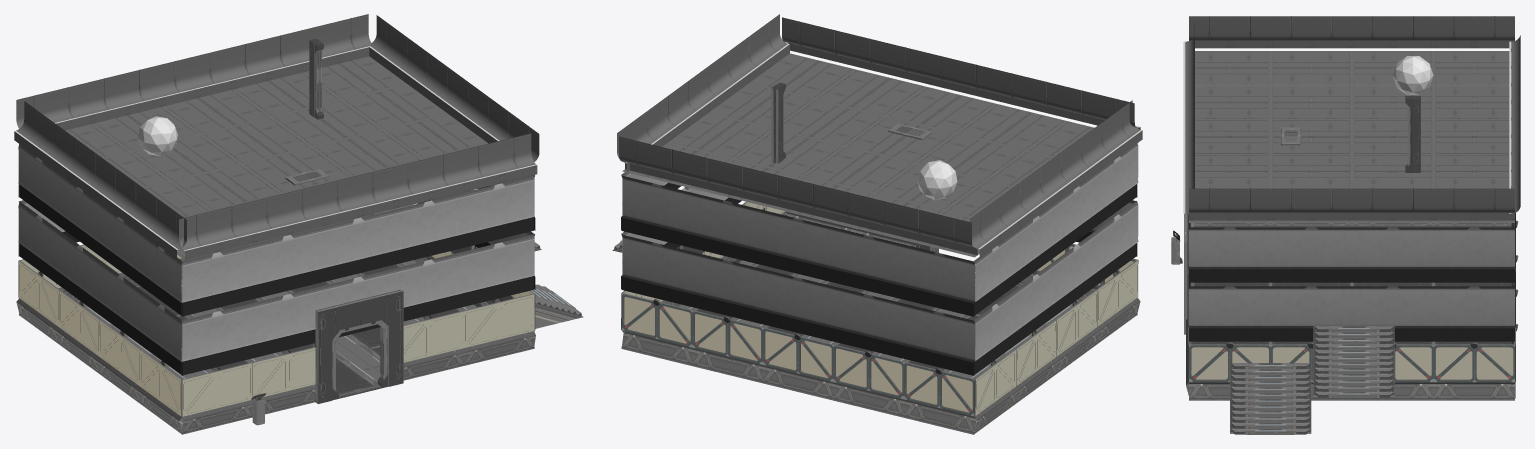
File: sc-techlab.glb
3 renders of one model, left to right at view 1: azimuth 30°, elevation 25°; view 2: azimuth 150°, elevation 25°; view 3: azimuth 270°, elevation 25°, orthographic.
Parts seen in each view (by area): view 1: sc-techlab; view 2: sc-techlab; view 3: sc-techlab.
Part boxes in pixels (x1,y1,x2,y2): sc-techlab: (14,14,583,434); sc-techlab: (612,14,1142,434); sc-techlab: (1171,16,1520,434).
Bounding box in the file's own units: 24.33 × 13.6 × 17.17.
8 materials, 6 textured.
